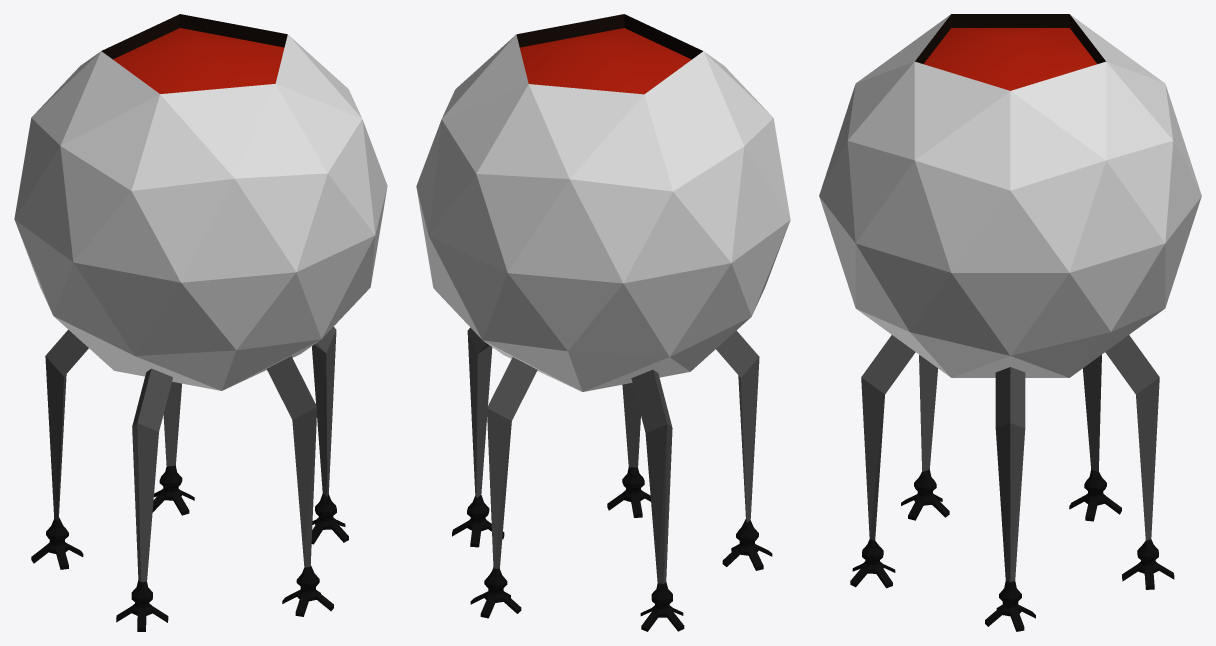
Rendered from WaterSphere.FBX.
3 views of the same model, side by side, from view 1: azimuth 30°, elevation 25°; view 2: azimuth 150°, elevation 25°; view 3: azimuth 270°, elevation 25° (orthographic).
Parts seen in each view (by area): view 1: GeoSphere001, Object, Leg003, Leg004, Leg002, Leg, Leg001; view 2: GeoSphere001, Object, Leg002, Leg001, Leg003, Leg, Leg004; view 3: GeoSphere001, Object, Leg, Leg004, Leg001, Leg003, Leg002.
Part boxes in pixels (box(x1,y1,x2,y2)): GeoSphere001: box(14, 34, 387, 390); Object: box(101, 14, 287, 93); Leg003: box(116, 368, 172, 631); Leg004: box(266, 356, 333, 616); Leg002: box(31, 329, 88, 569); Leg: box(311, 326, 348, 544); Leg001: box(152, 381, 194, 515); GeoSphere001: box(416, 34, 790, 391); Object: box(516, 14, 702, 94); Leg002: box(631, 369, 684, 631); Leg001: box(470, 357, 537, 618); Leg003: box(716, 330, 772, 570); Leg: box(452, 327, 504, 547); Leg004: box(607, 383, 650, 517); GeoSphere001: box(819, 14, 1201, 377); Object: box(915, 14, 1105, 90); Leg: box(985, 367, 1035, 631); Leg004: box(850, 335, 915, 588); Leg001: box(1105, 335, 1174, 589); Leg003: box(901, 355, 949, 520); Leg002: box(1069, 355, 1121, 521).
Size of the model in its own units: 95.11 by 151 by 100.
